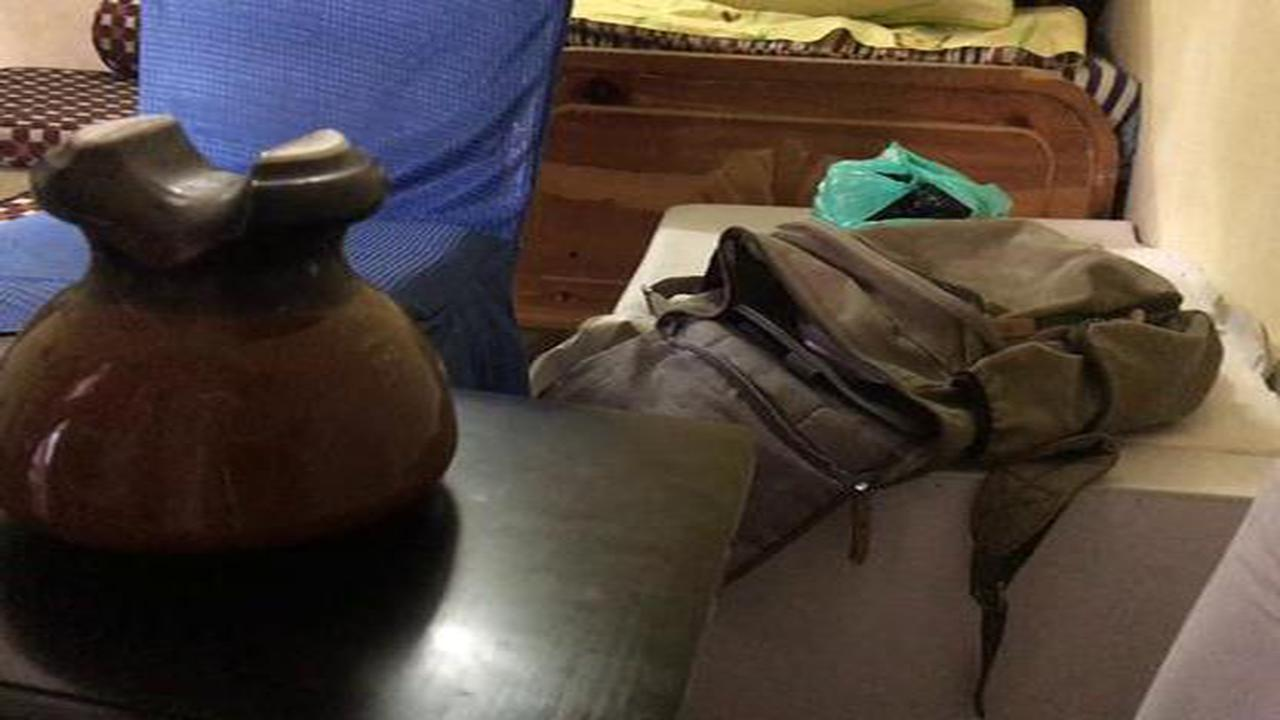insulator_pin: (6, 110, 471, 577)
